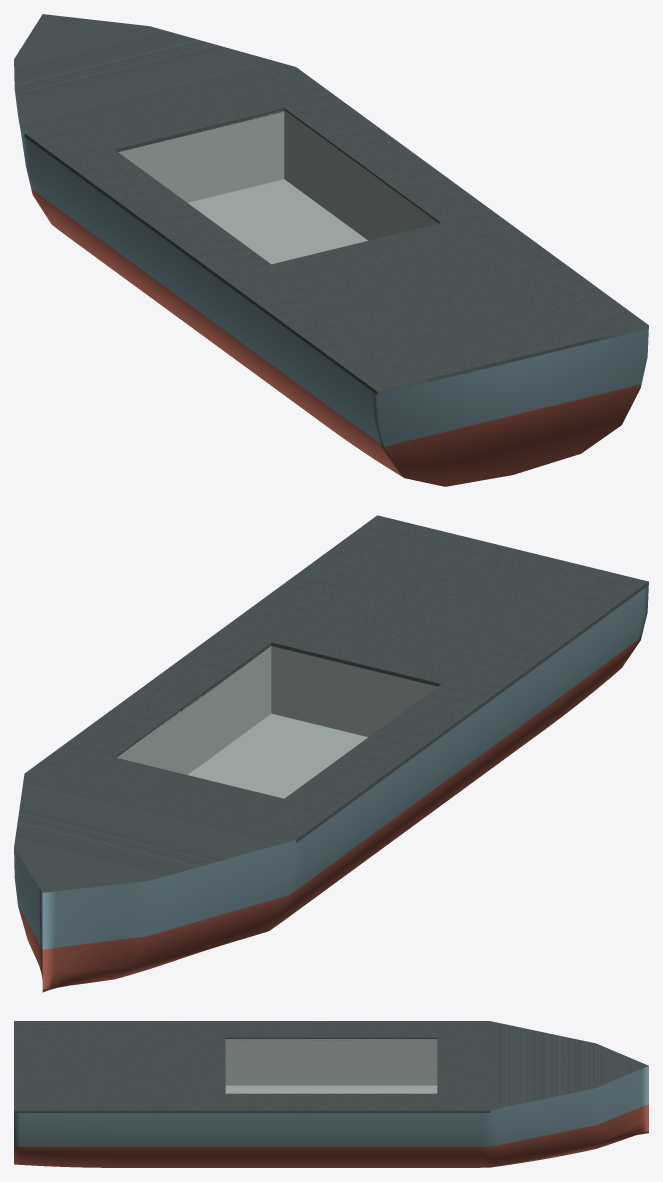
Rendered from hull_24x8.glb.
3 views of the same model, one above another, from view 1: azimuth 30°, elevation 25°; view 2: azimuth 150°, elevation 25°; view 3: azimuth 270°, elevation 25° (orthographic). The views are drawn at different scales.
Parts seen in each view (by area): view 1: Formed steel hull, Aft deck, Port deck, Bow deck, Starboard deck, Hold end lining.001, Hold side lining.001, Hold tank top, Fore deck; view 2: Formed steel hull, Aft deck, Port deck, Bow deck, Starboard deck, Hold end lining, Hold side lining.001, Hold tank top, Fore deck; view 3: Formed steel hull, Aft deck, Hold side lining, Starboard deck, Bow deck, Port deck, Fore deck, Hold tank top.
Boxes of the visible parts, <box> form: Formed steel hull: <box>14,61,648,486</box>; Aft deck: <box>272,223,597,382</box>; Port deck: <box>24,121,428,394</box>; Bow deck: <box>14,14,295,133</box>; Starboard deck: <box>245,67,648,341</box>; Hold end lining.001: <box>118,110,284,202</box>; Hold side lining.001: <box>284,110,438,240</box>; Hold tank top: <box>188,179,367,264</box>; Fore deck: <box>76,79,284,151</box>; Formed steel hull: <box>14,585,648,992</box>; Aft deck: <box>271,528,597,686</box>; Port deck: <box>245,569,648,843</box>; Bow deck: <box>14,773,295,892</box>; Starboard deck: <box>25,515,427,785</box>; Hold end lining: <box>271,646,436,737</box>; Hold side lining.001: <box>117,646,271,774</box>; Hold tank top: <box>188,713,367,798</box>; Fore deck: <box>76,757,283,827</box>; Formed steel hull: <box>14,1066,648,1167</box>; Aft deck: <box>14,1037,225,1093</box>; Hold side lining: <box>225,1039,437,1085</box>; Starboard deck: <box>14,1093,490,1112</box>; Bow deck: <box>490,1021,648,1110</box>; Port deck: <box>14,1021,490,1040</box>; Fore deck: <box>437,1037,490,1093</box>; Hold tank top: <box>225,1085,437,1093</box>.
Size of the model in its own units: 8 by 3.46 by 24.
Materials: 4 (1 with a texture image).
